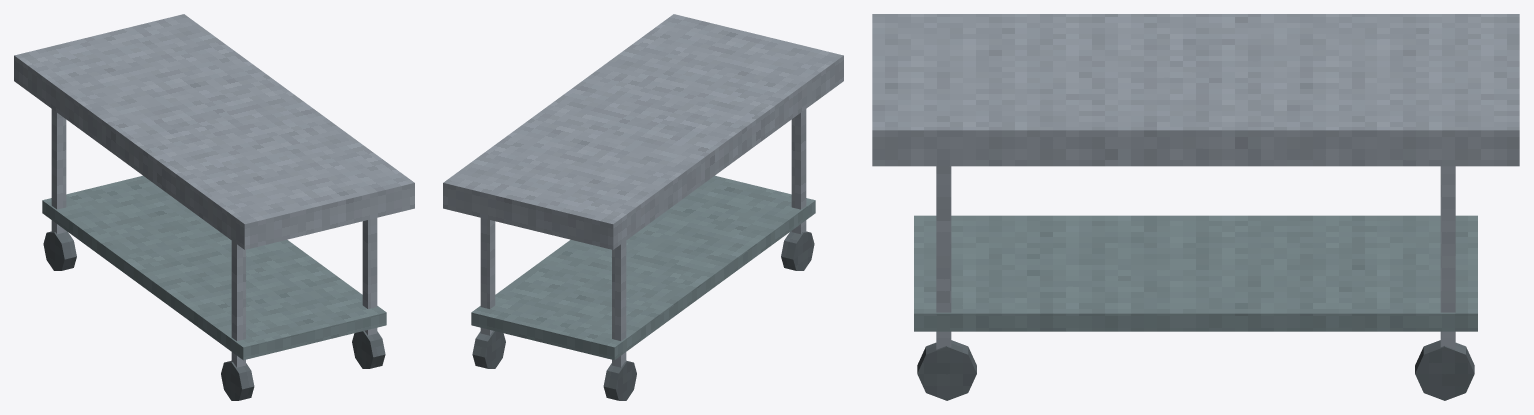
Rendered from level_blockout_mortuary_trolley.glb.
The picture shows the model from 3 angles, left to right: view 1: azimuth 30°, elevation 25°; view 2: azimuth 150°, elevation 25°; view 3: azimuth 270°, elevation 25°; orthographic projection. The views are drawn at different scales.
Visible parts, largest first — view 1: level_blockout_mortuary_trolley; view 2: level_blockout_mortuary_trolley; view 3: level_blockout_mortuary_trolley.
Part boxes in pixels (box(x1,y1,x2,y2)): level_blockout_mortuary_trolley: box(14, 14, 414, 400); level_blockout_mortuary_trolley: box(443, 14, 843, 400); level_blockout_mortuary_trolley: box(872, 14, 1519, 400).
Bounding box in the file's own units: 0.83 × 0.93 × 1.95.
3 materials, 3 textured.
